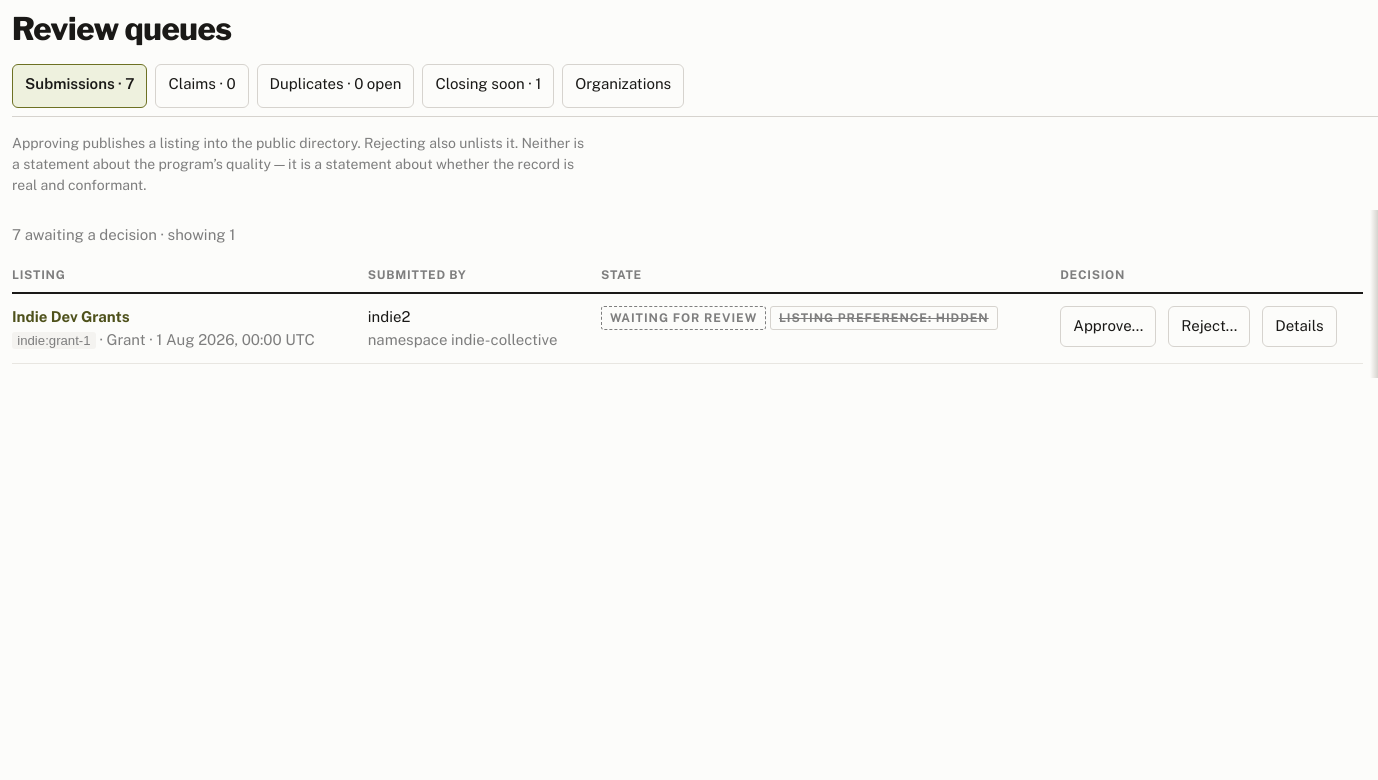
Test: deciding a submission › shows the evidence a decision needs — for a PENDING row, which is all of them
Click the button "Details". click: (1299, 327)
box: [1262,306,1337,347]
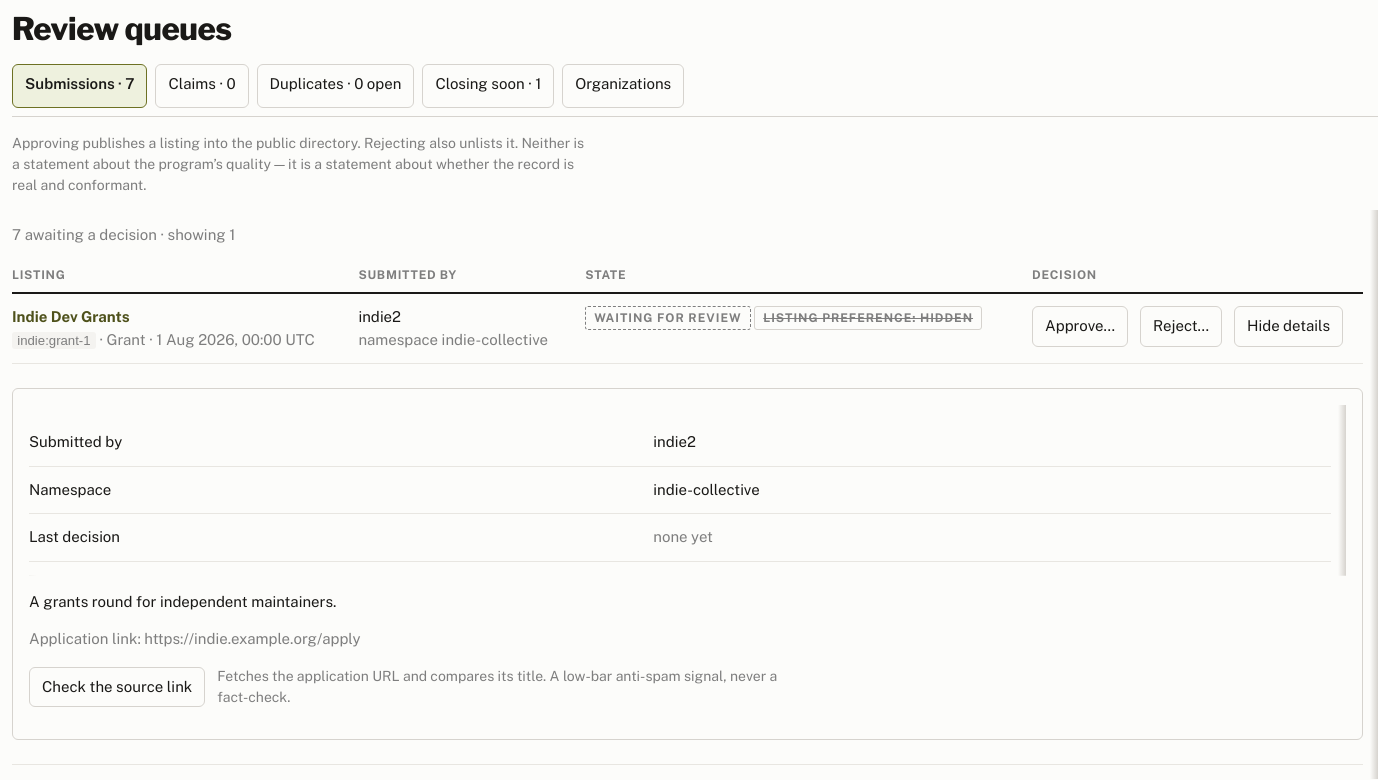
Expected: the text "A grants round for independent maintainers." is shown, [29,593,336,610]
Expected: the text "https://indie.example.org/apply" is shown, [144,630,361,647]
Click the button "Check the source link". click: (117, 687)
box: [29,667,205,707]
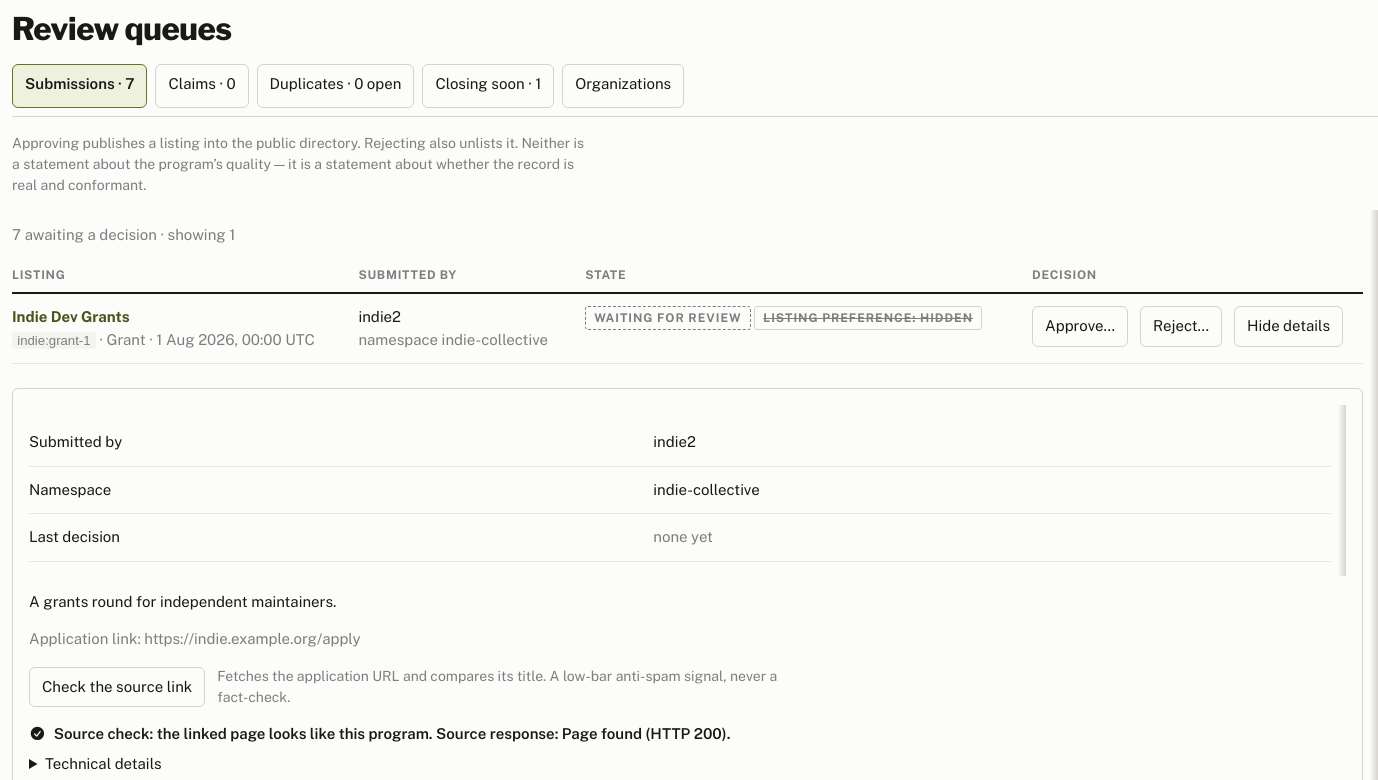
Expected: the text "Source response: Page found (HTTP 200)" is shown, [54,725,730,742]
